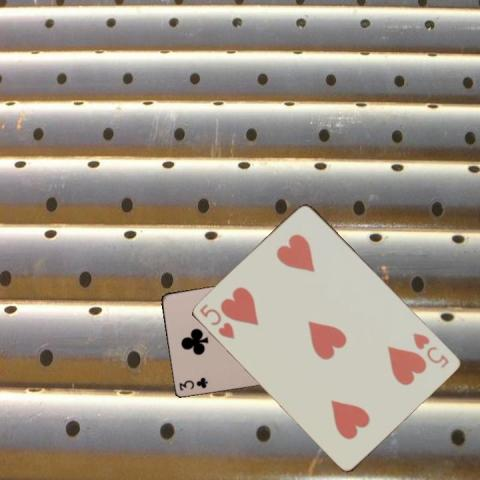3c: (176, 376, 209, 392)
5h: (410, 329, 451, 370), (196, 300, 236, 340)
